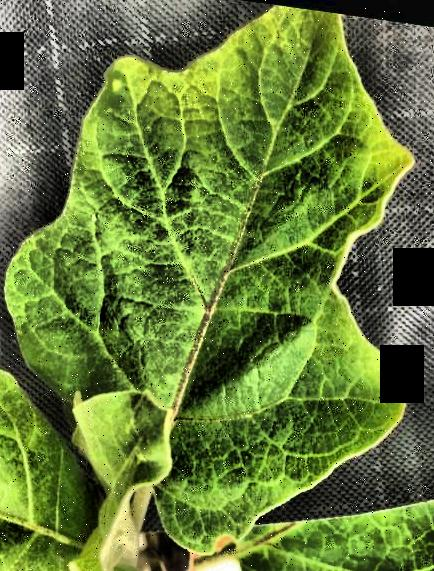Non-critical Stress: (0, 1, 434, 571)
